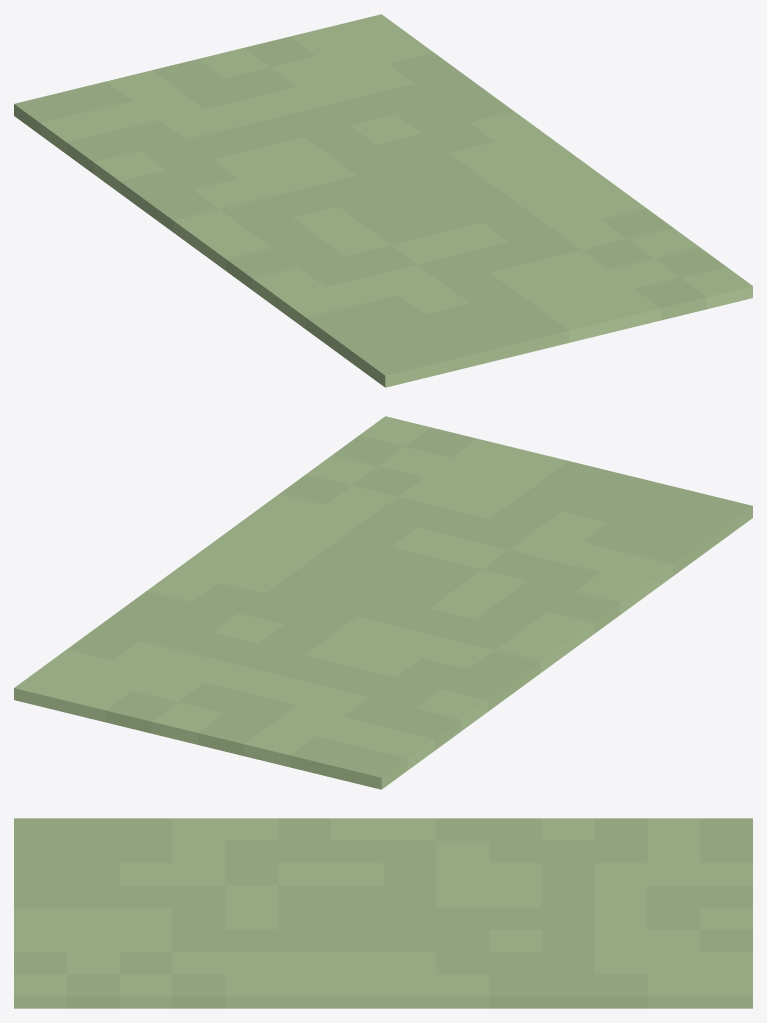
File: cattle_pasture.glb
3 renders of one model, top to bottom at view 1: azimuth 30°, elevation 25°; view 2: azimuth 150°, elevation 25°; view 3: azimuth 270°, elevation 25°, orthographic.
Parts seen in each view (by area): view 1: cattle_pasture; view 2: cattle_pasture; view 3: cattle_pasture.
Part boxes in pixels (x1,y1,x2,y2): cattle_pasture: (14, 14, 752, 387); cattle_pasture: (14, 416, 752, 789); cattle_pasture: (14, 818, 752, 1008).
Size of the model in its own units: 4 by 0.125 by 7.
